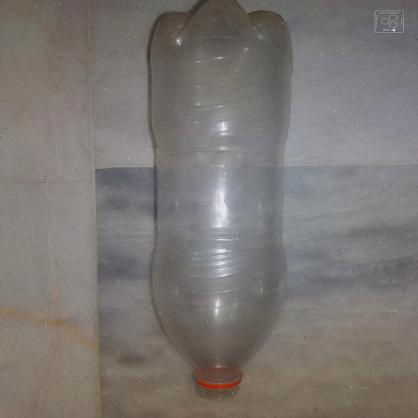bottle: (126, 0, 296, 411)
